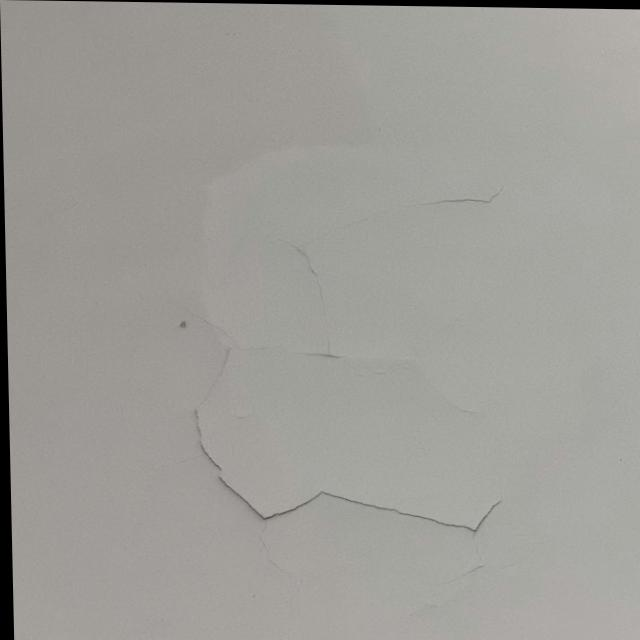crack: (155, 295, 515, 538), (228, 168, 510, 369)
